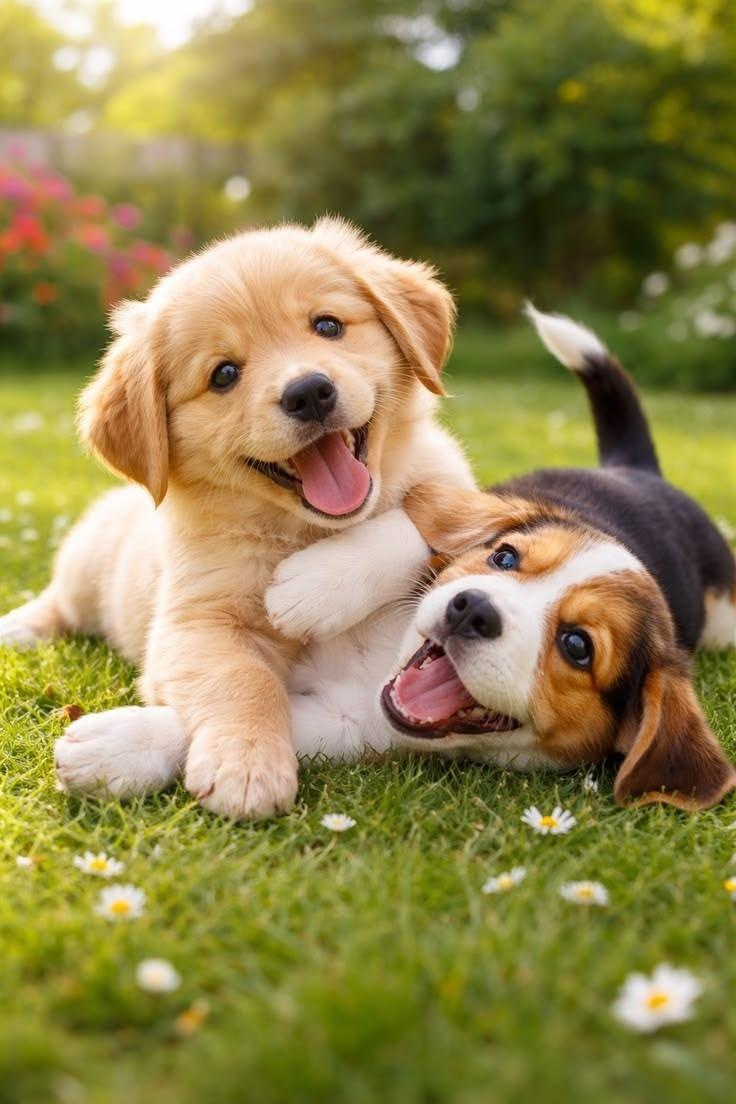puppy-dog: (49, 300, 736, 815), (0, 216, 479, 821)
